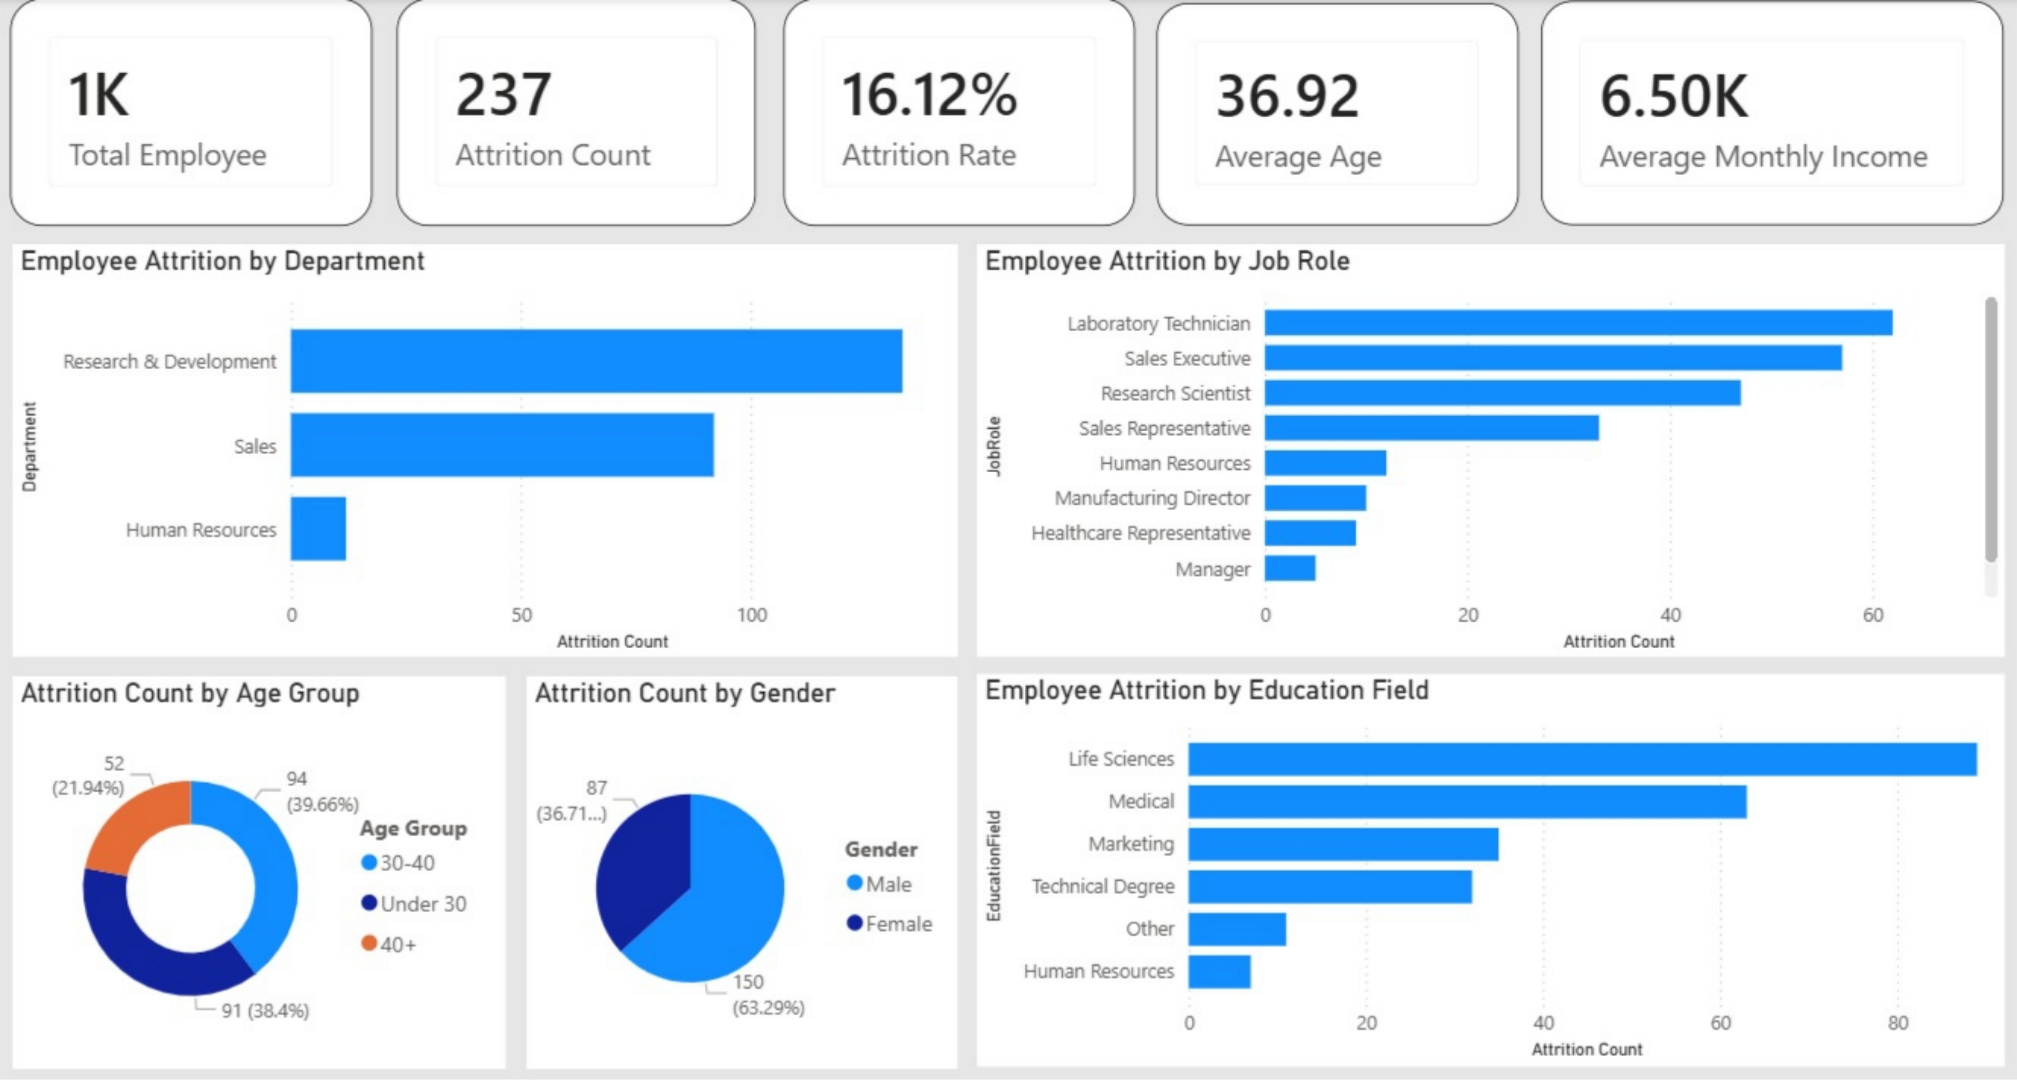

This screenshot's page, from the dashboard's own definition file:
{"tool":"powerbi","page":{"name":"Executive Summary","canvas":[1280,720],"ordinal":0},"visuals":[{"type":"cardVisual","fields":{"Data":["Employee-Attrition.Total Employee"]},"box":[13,0,227.7,143.1],"z":0},{"type":"cardVisual","fields":{"Data":["Employee-Attrition.Attrition Count"]},"box":[257,0,226.1,143.1],"z":1000},{"type":"cardVisual","fields":{"Data":["Employee-Attrition.Attrition Rate"]},"box":[499.3,0,221.2,143.1],"z":2000},{"type":"cardVisual","fields":{"Data":["Employee-Attrition.Average Age"]},"box":[735.2,3.3,227.7,139.9],"z":3000},{"type":"cardVisual","fields":{"Data":["Employee-Attrition.Average Monthly Income"]},"box":[977.6,1.6,291.2,141.5],"z":4000},{"type":"clusteredBarChart","title":"Employee Attrition by Department","fields":{"Category":["Employee-Attrition.Department"],"Y":["Employee-Attrition.Attrition Count"]},"box":[14.6,154.5,595.3,260.2],"z":5000},{"type":"clusteredBarChart","title":"Employee Attrition by Job Role","fields":{"Category":["Employee-Attrition.JobRole"],"Y":["Employee-Attrition.Attrition Count"]},"box":[621.3,154.5,647.4,260.2],"z":6000},{"type":"pieChart","fields":{"Category":["Employee-Attrition.Gender"],"Y":["Employee-Attrition.Attrition Count"]},"box":[338.3,426.2,271.6,247.2],"z":7000},{"type":"donutChart","fields":{"Category":["Employee-Attrition.Age Group"],"Y":["Employee-Attrition.Attrition Count"]},"box":[14.6,426.2,310.7,247.2],"z":8000},{"type":"clusteredBarChart","title":"Employee Attrition by Education Field","fields":{"Category":["Employee-Attrition.EducationField"],"Y":["Employee-Attrition.Attrition Count"]},"box":[621,426,647,247],"z":9000}]}

Visuals, with their boxes on the page's 1280x720 design canvas (x1, y1, x2, y2). These are canvas units, not pixel positions in the 2017x1080 screenshot, which may show the page scaled, cropped or inside an application window:
cardVisual - Employee-Attrition.Total Employee: 13/0/241/143
cardVisual - Employee-Attrition.Attrition Count: 257/0/483/143
cardVisual - Employee-Attrition.Attrition Rate: 499/0/720/143
cardVisual - Employee-Attrition.Average Age: 735/3/963/143
cardVisual - Employee-Attrition.Average Monthly Income: 978/2/1269/143
"Employee Attrition by Department" clusteredBarChart: 15/154/610/415
"Employee Attrition by Job Role" clusteredBarChart: 621/154/1269/415
pieChart - Employee-Attrition.Gender x Employee-Attrition.Attrition Count: 338/426/610/673
donutChart - Employee-Attrition.Age Group x Employee-Attrition.Attrition Count: 15/426/325/673
"Employee Attrition by Education Field" clusteredBarChart: 621/426/1268/673
